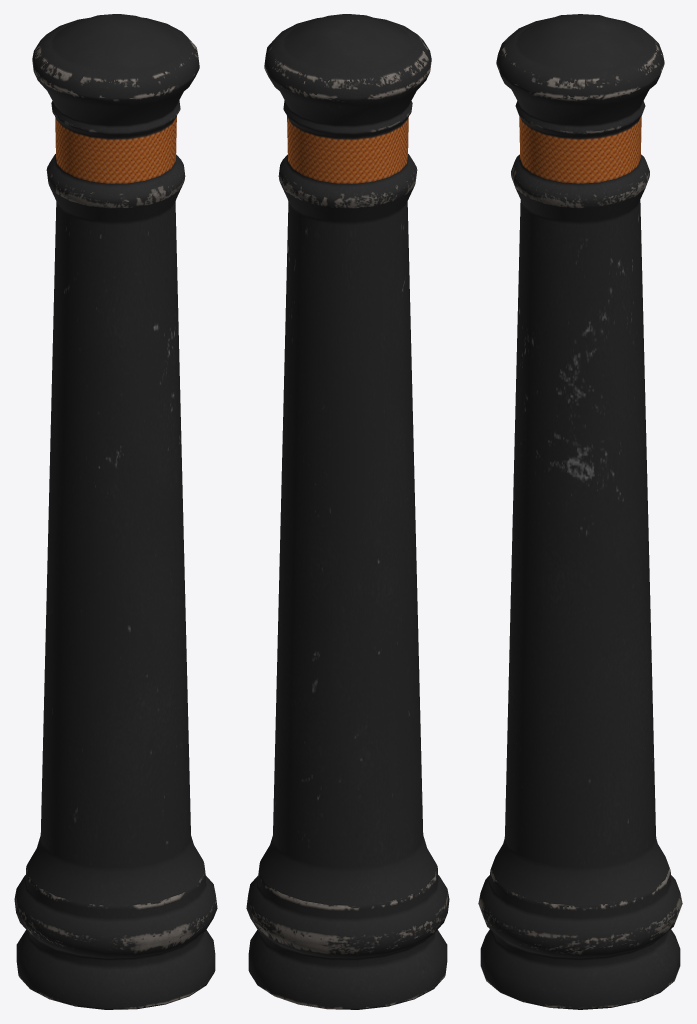
File: bollard.obj
The picture shows the model from 3 angles, left to right: view 1: azimuth 30°, elevation 25°; view 2: azimuth 150°, elevation 25°; view 3: azimuth 270°, elevation 25°; orthographic projection.
Parts seen in each view (by area): view 1: bollard; view 2: bollard; view 3: bollard.
Part boxes in pixels (x1=…): bollard: x1=14, y1=14, x2=217, y2=1009; bollard: x1=246, y1=14, x2=449, y2=1009; bollard: x1=478, y1=14, x2=682, y2=1009.
Size of the model in its own units: 22.66 by 116 by 22.66.
